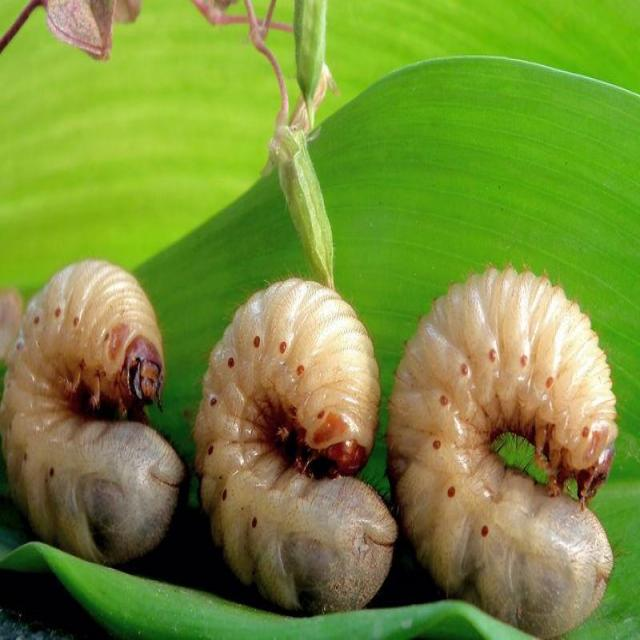Grub-Adult-: (380, 262, 619, 634), (187, 273, 404, 623), (0, 257, 186, 568)
